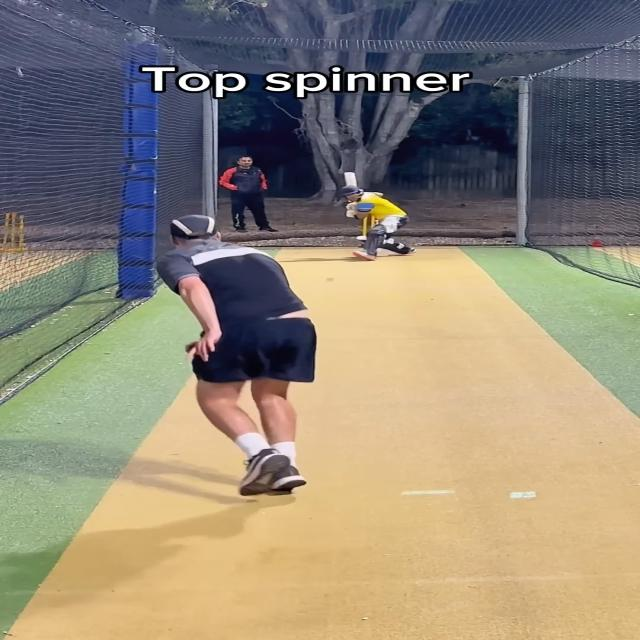Cricket ball: (325, 275, 336, 282)
